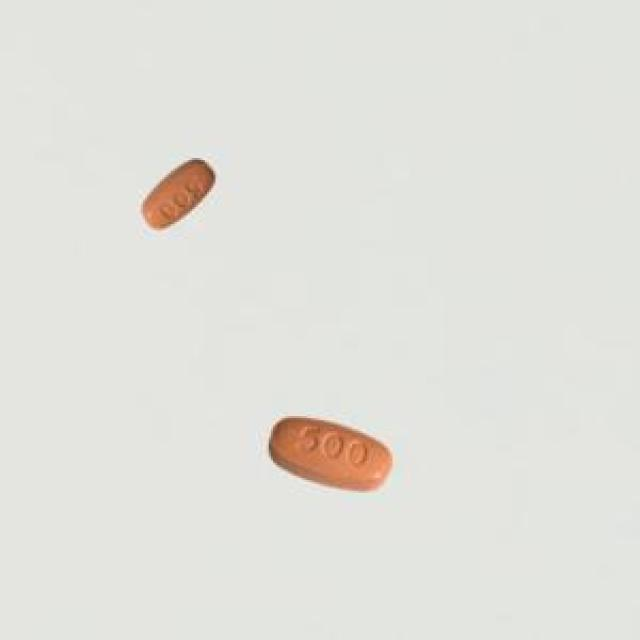Biogesic: (247, 398, 408, 508), (115, 138, 224, 236)
